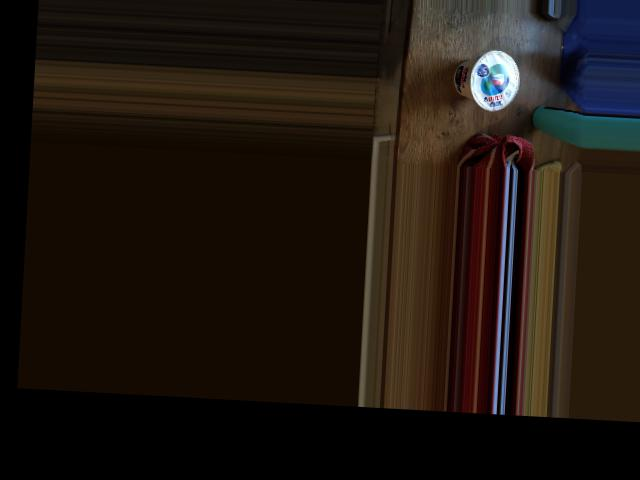cotage: (449, 51, 524, 109)
